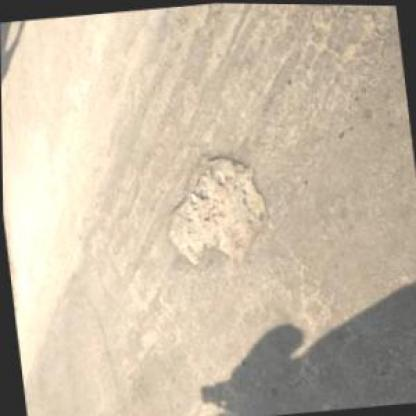pothole: (156, 146, 274, 270)
